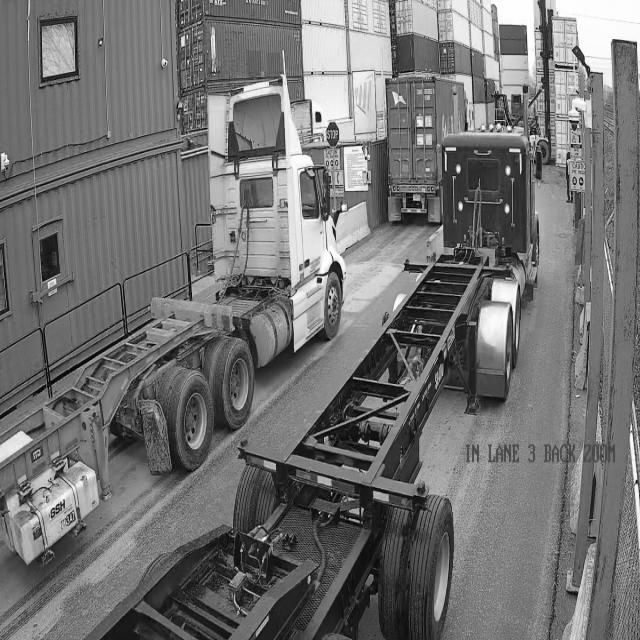truck_with_container: (387, 76, 466, 220)
truck_without_container: (88, 131, 542, 639), (0, 83, 346, 563)
